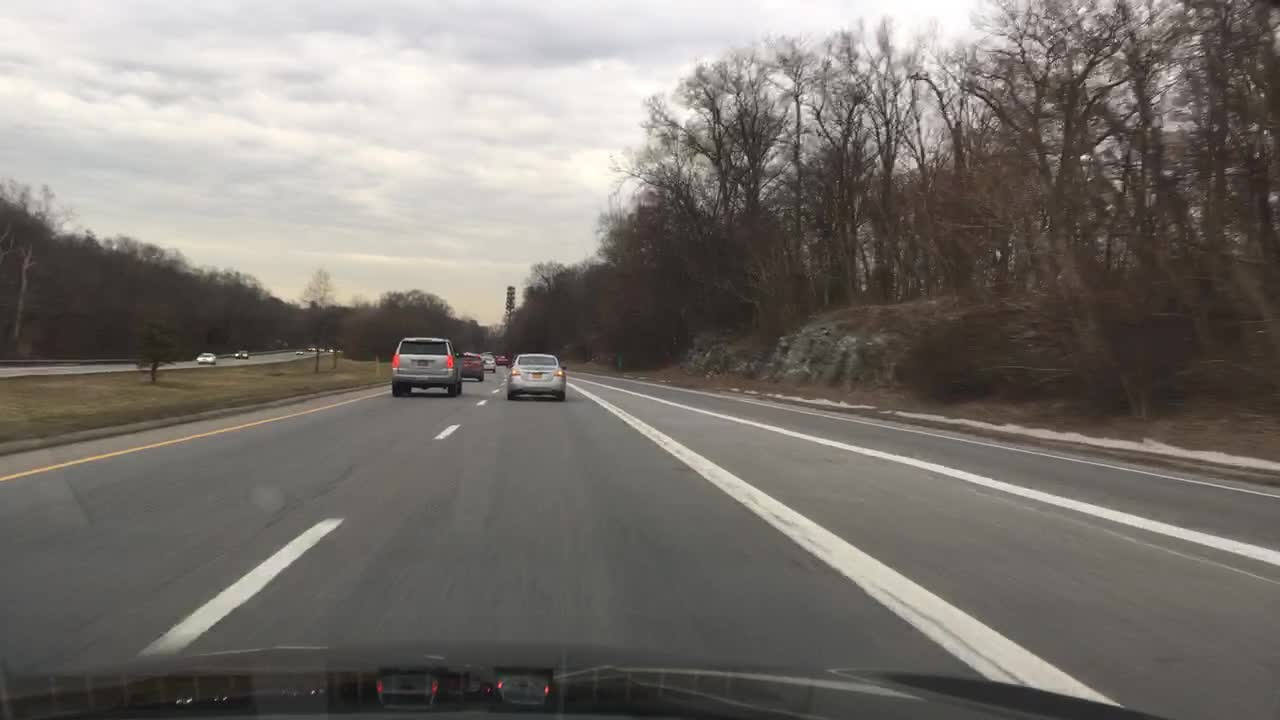car: (388, 335, 459, 399), (503, 353, 567, 399), (458, 352, 484, 384), (482, 352, 497, 372), (195, 351, 217, 363), (496, 352, 509, 366), (234, 348, 249, 360)
